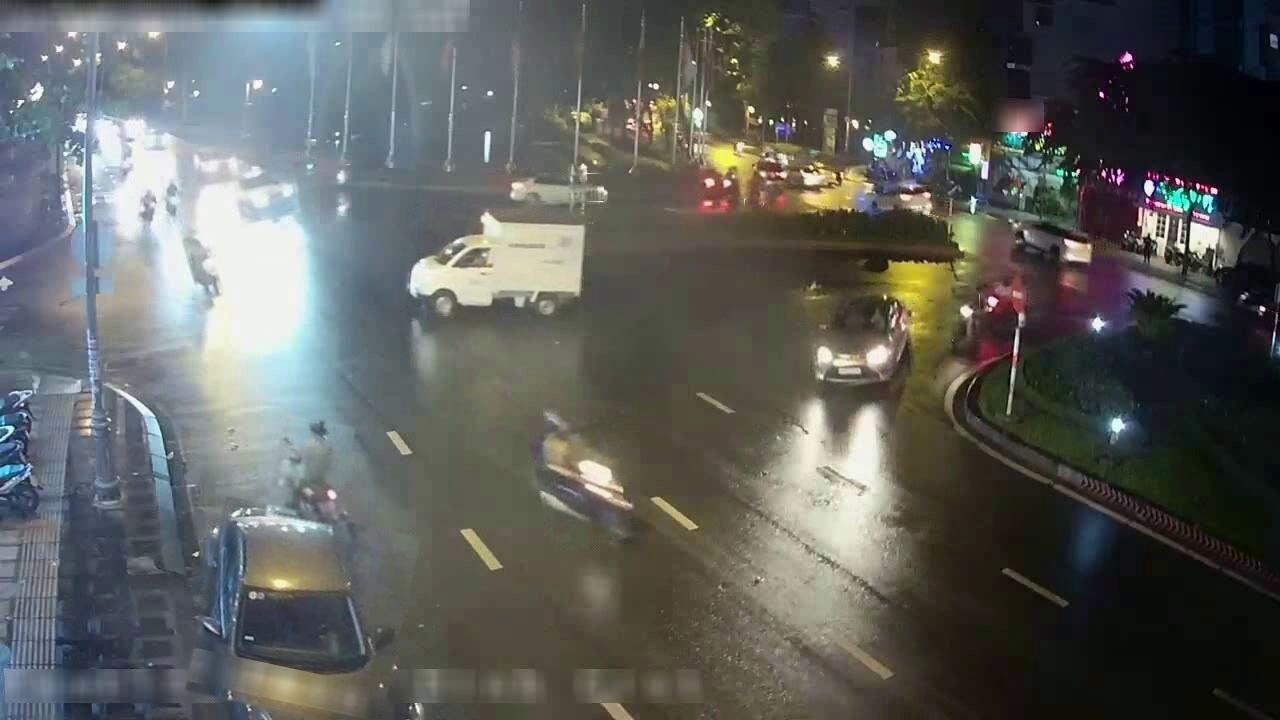Car: (189, 508, 392, 719), (812, 295, 911, 386), (1014, 221, 1091, 264), (237, 167, 297, 220), (509, 174, 607, 206), (867, 181, 933, 215), (696, 173, 739, 213), (194, 147, 239, 182)
Motorcycle: (0, 463, 39, 516), (0, 388, 34, 438), (0, 408, 32, 442), (0, 426, 28, 461), (0, 441, 27, 466)
Motorcyclist: (532, 413, 635, 540), (277, 420, 348, 524), (982, 275, 1024, 328), (184, 236, 220, 296), (952, 293, 979, 344), (294, 157, 322, 191), (746, 171, 766, 207), (164, 181, 181, 222), (138, 190, 156, 227), (327, 164, 351, 188)
Truck: (407, 212, 584, 317)
